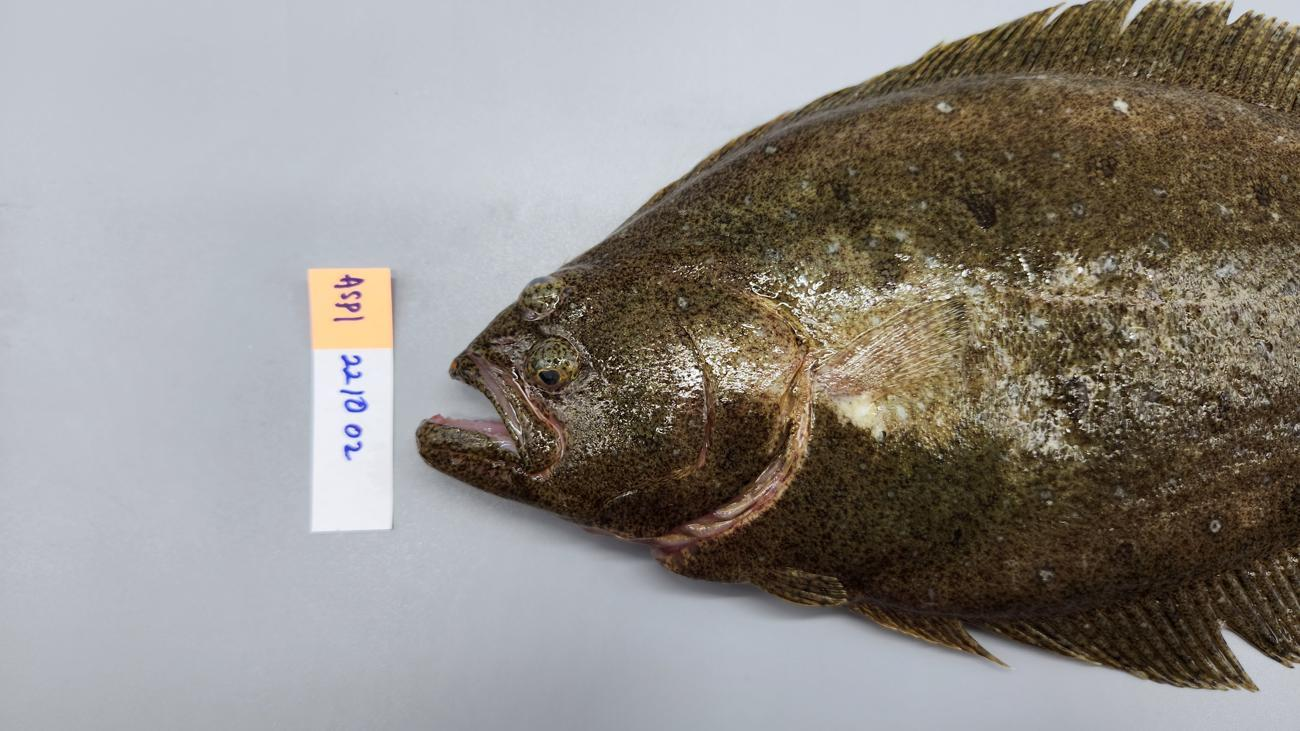SPDYH: (668, 456, 1299, 619)
